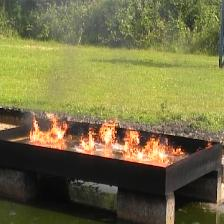fire: (98, 119, 183, 163), (28, 114, 69, 144), (80, 127, 96, 151)
